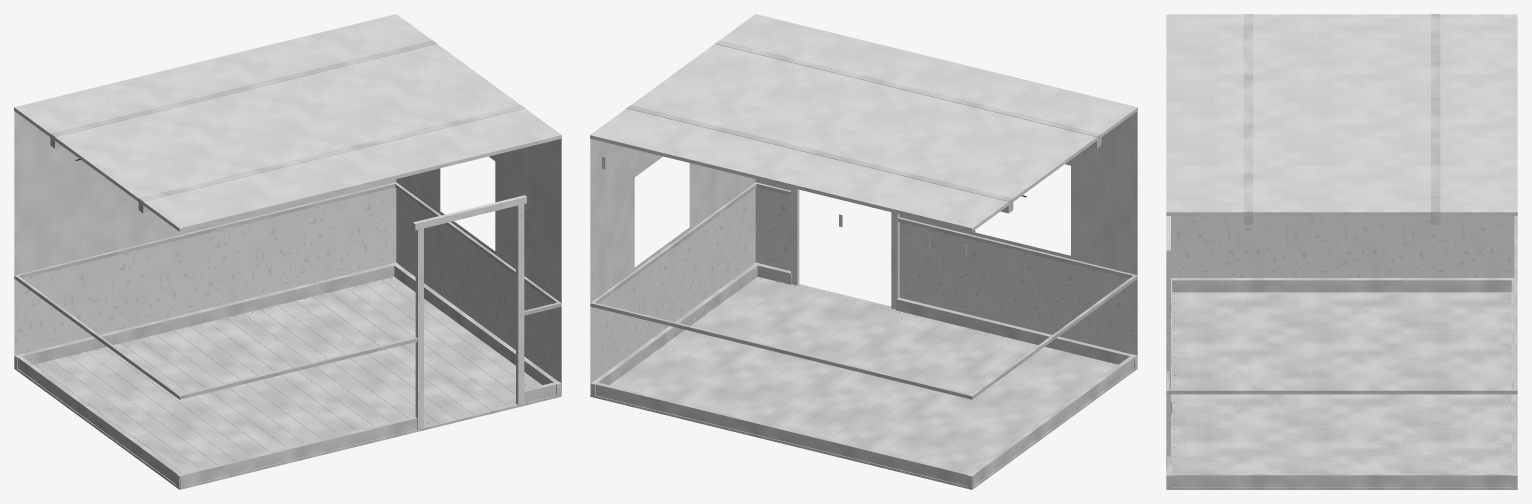
Rendered from SM_FieldStation_Hut_Interior.glb.
The picture shows the model from 3 angles, left to right: view 1: azimuth 30°, elevation 25°; view 2: azimuth 150°, elevation 25°; view 3: azimuth 270°, elevation 25°; orthographic projection. The views are drawn at different scales.
Parts seen in each view (by area): view 1: SM_FieldStation_Hut_Interior; view 2: SM_FieldStation_Hut_Interior; view 3: SM_FieldStation_Hut_Interior.
Boxes of the visible parts, left/top/right/bottom form: SM_FieldStation_Hut_Interior: left=14, top=14, right=561, bottom=489; SM_FieldStation_Hut_Interior: left=590, top=14, right=1137, bottom=489; SM_FieldStation_Hut_Interior: left=1166, top=14, right=1517, bottom=489.
Bounding box in the file's own units: 4 × 2.62 × 3.
Materials: 11 (8 with a texture image).
